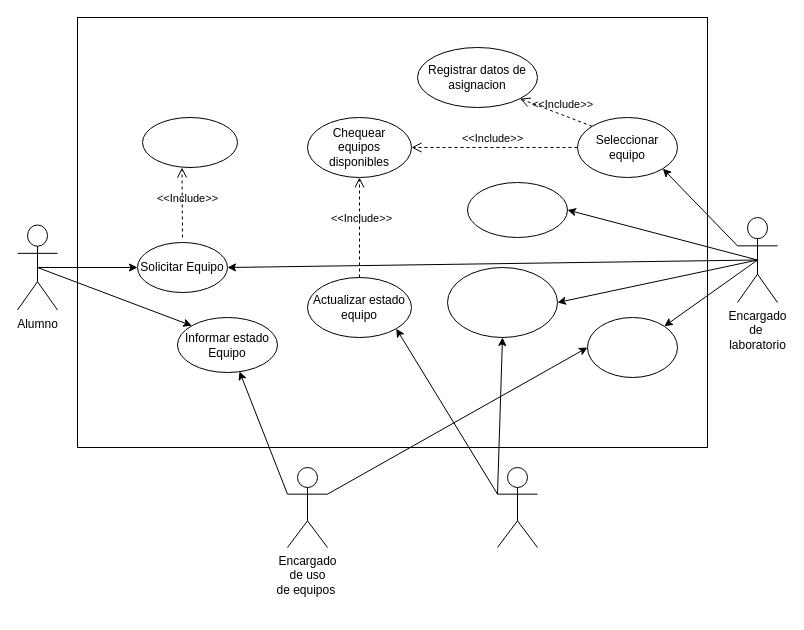
Some shapes in this 804 by 630 pixel diagram are drawn without their labels. Each missing label, with the centre of its shape:
"Informe de equipos con fallas" goes at point 502,302.
"Pedir legajo" goes at point 190,142.
"Reportar fallas" goes at point 632,347.
"Servicio tecnico" goes at point 517,507.
"Verificar legajo" goes at point 517,210.
